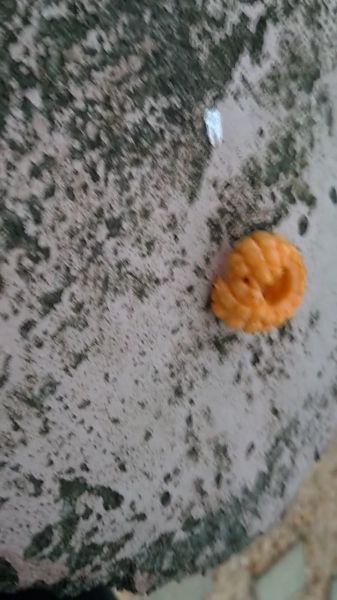eggs: (200, 223, 316, 339)
